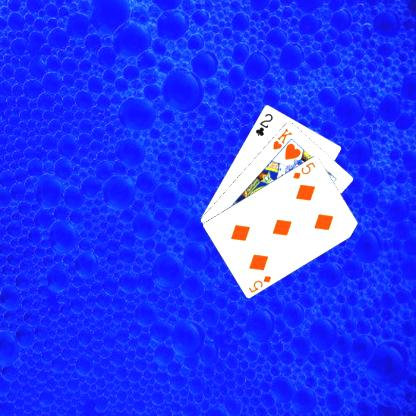2C: (253, 111, 274, 137)
5D: (245, 272, 273, 294), (290, 159, 317, 180)
KH: (270, 125, 294, 151)
